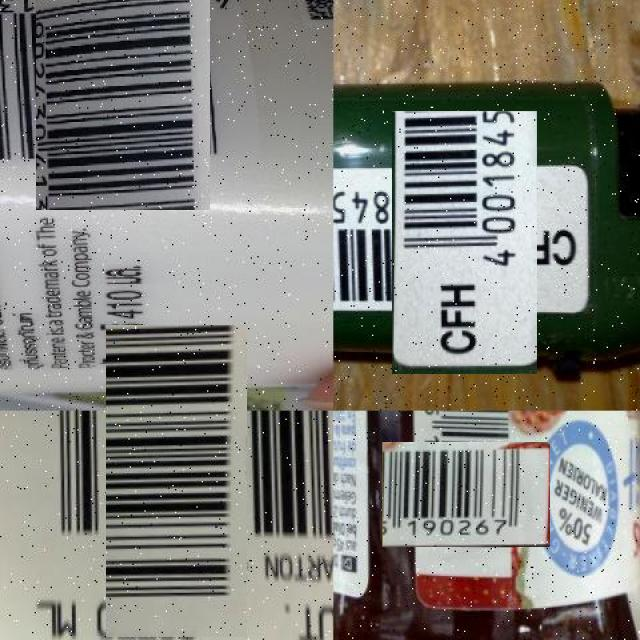Barcode: (63, 368, 290, 595), (362, 140, 567, 344), (18, 0, 228, 193), (398, 426, 534, 563)
